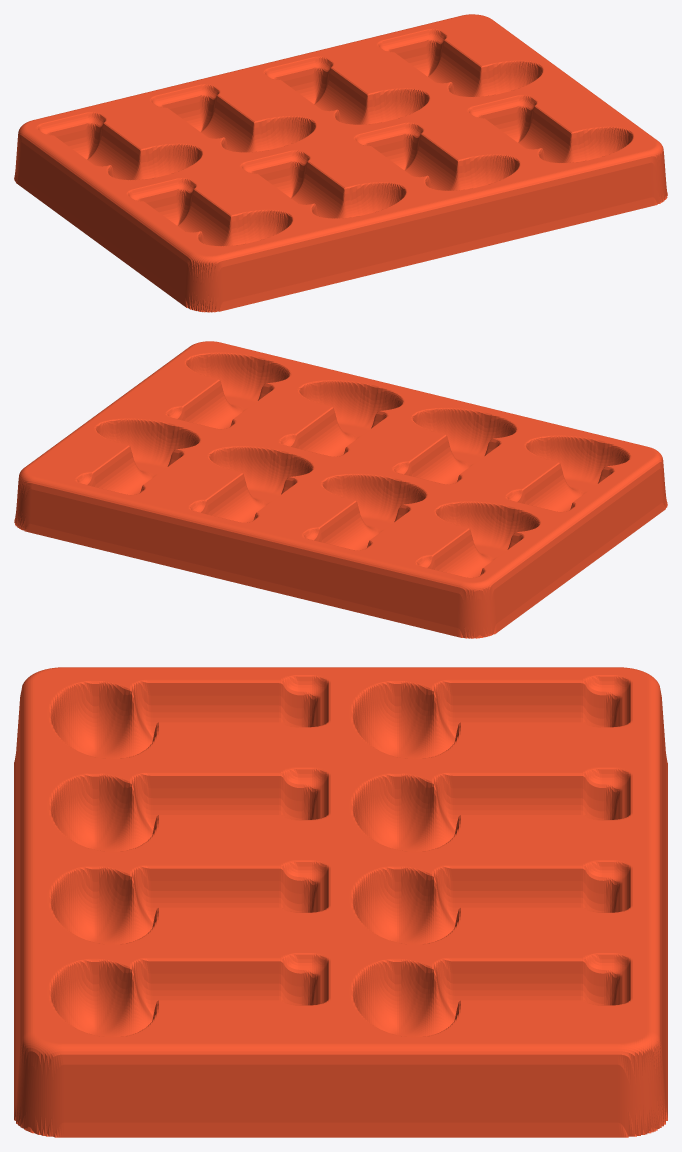
Rendered from mold.glb.
3 renders of one model, top to bottom at view 1: azimuth 30°, elevation 25°; view 2: azimuth 150°, elevation 25°; view 3: azimuth 270°, elevation 25°, orthographic. The views are drawn at different scales.
Visible parts, largest first — view 1: geometry_0; view 2: geometry_0; view 3: geometry_0.
Part boxes in pixels (x1,y1,x2,y2): geometry_0: (14, 14, 667, 312); geometry_0: (14, 341, 667, 638); geometry_0: (14, 667, 667, 1137).
Size of the model in its own units: 0.1714 by 0.0175 by 0.1209.
